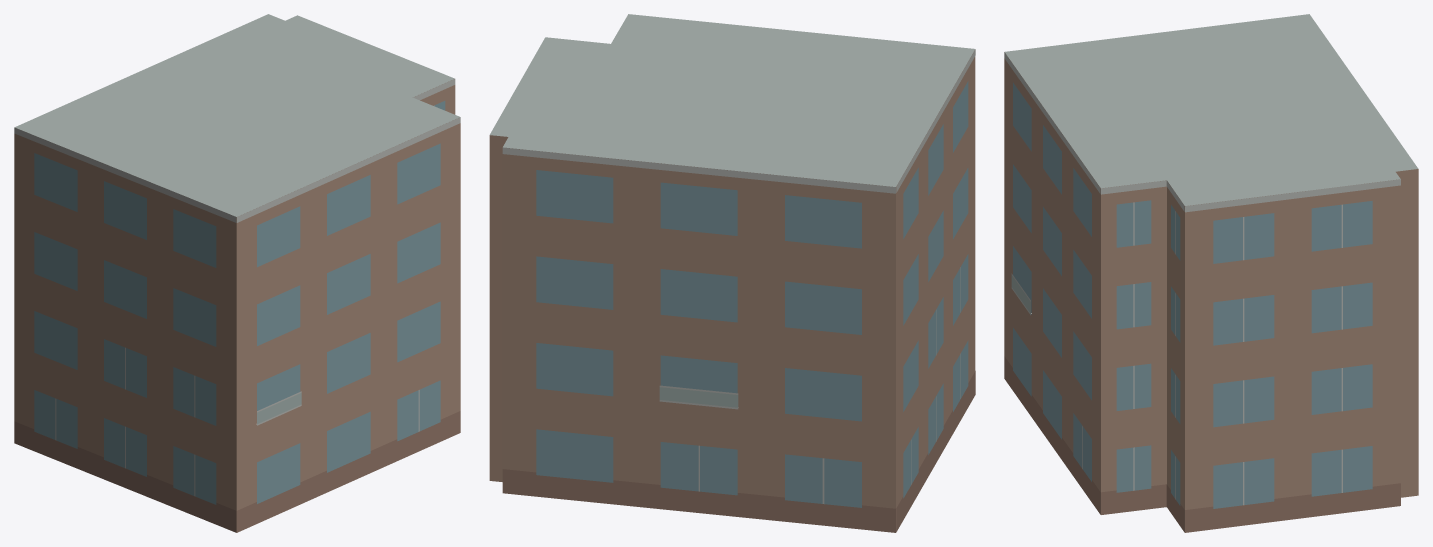
File: survey-upis-32620729.glb
3 renders of one model, left to right at view 1: azimuth 30°, elevation 25°; view 2: azimuth 150°, elevation 25°; view 3: azimuth 270°, elevation 25°, orthographic. The views are drawn at different scales.
Parts seen in each view (by area): view 1: survey-upis-32620729.tmp; view 2: survey-upis-32620729.tmp; view 3: survey-upis-32620729.tmp.
Boxes of the visible parts, bbox=[...] form: survey-upis-32620729.tmp: bbox=[14, 14, 460, 532]; survey-upis-32620729.tmp: bbox=[489, 14, 975, 532]; survey-upis-32620729.tmp: bbox=[1004, 14, 1418, 532].
Size of the model in its own units: 16 by 12.68 by 14.57.
